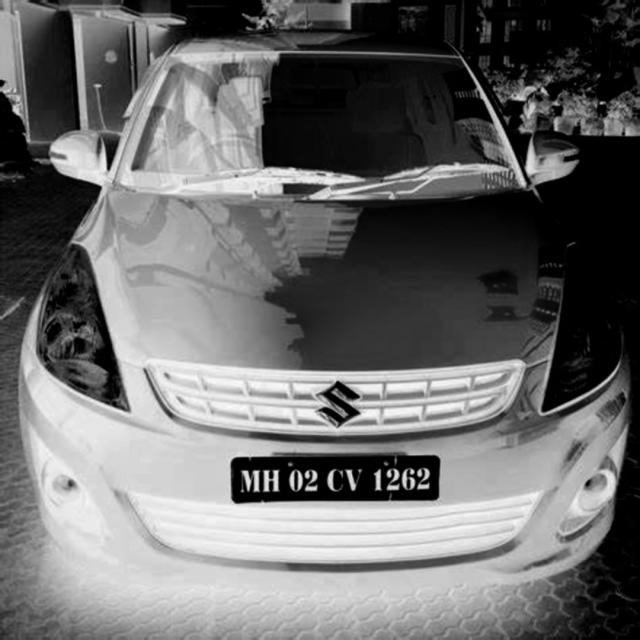Non_registered: (230, 456, 444, 507)
